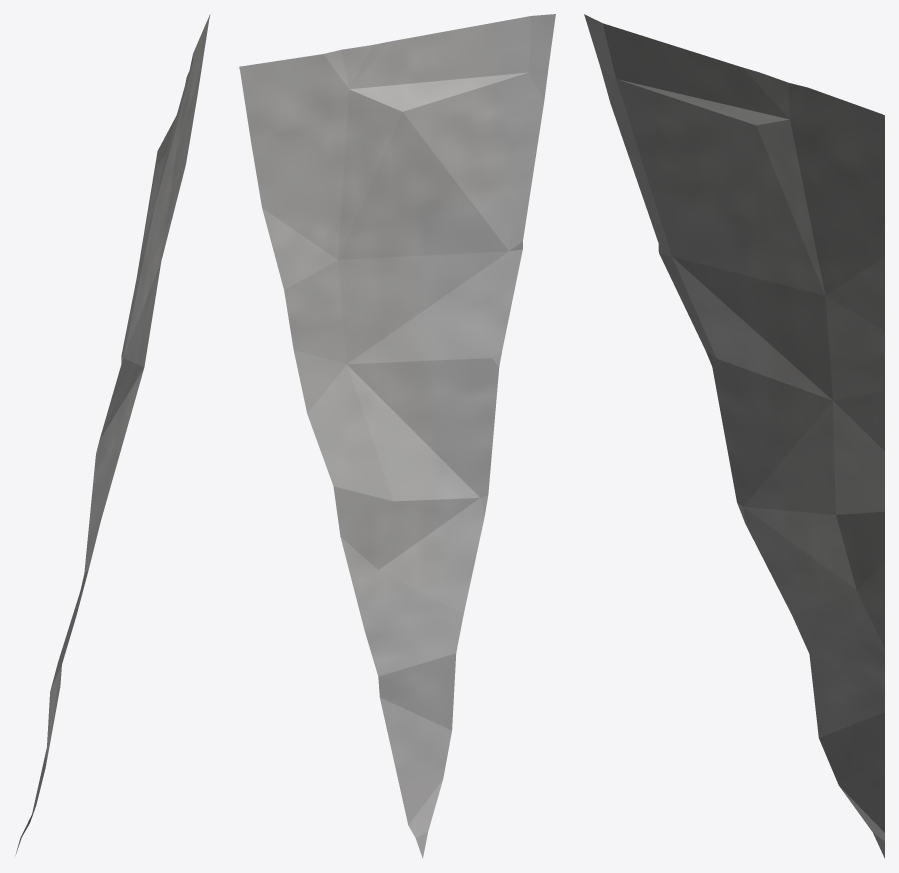
3 renders of one model, left to right at view 1: azimuth 30°, elevation 25°; view 2: azimuth 150°, elevation 25°; view 3: azimuth 270°, elevation 25°, orthographic. The views are drawn at different scales.
Size of the model in its own units: 0.0562 by 0.2183 by 0.0705.
Materials: 1 (1 with a texture image).
